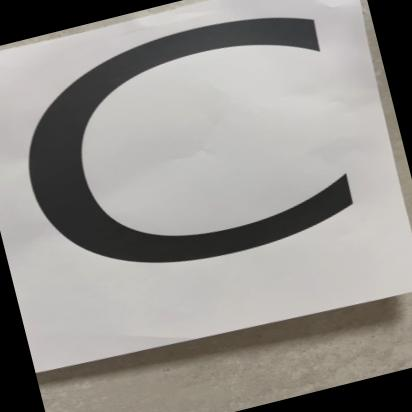seat: (0, 0, 412, 394)
